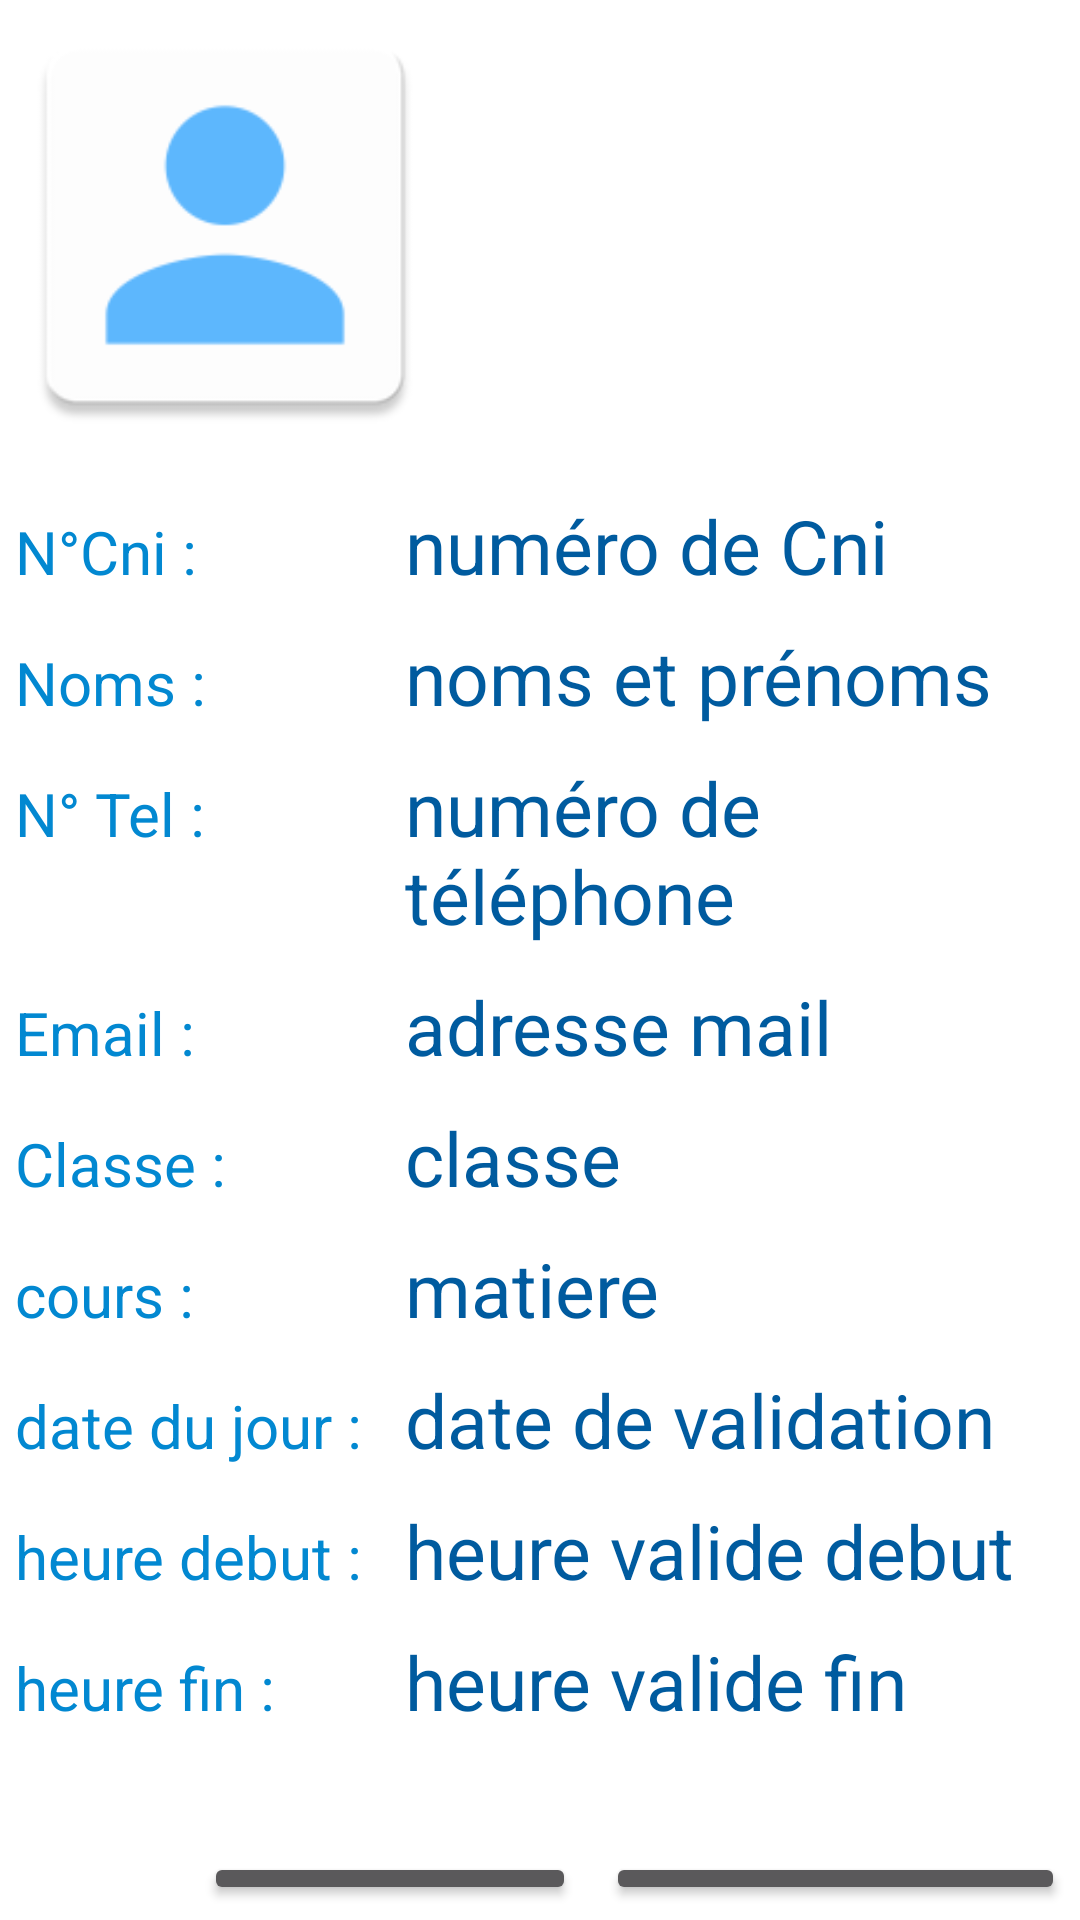

Icon bounding boxes for this 1080 × 1920 phone screenshot, format (x1, y1, x2, y2):
person: (47, 62, 405, 414)
